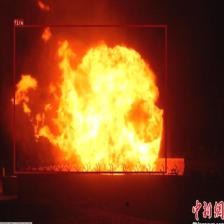fire: (14, 25, 166, 173)
